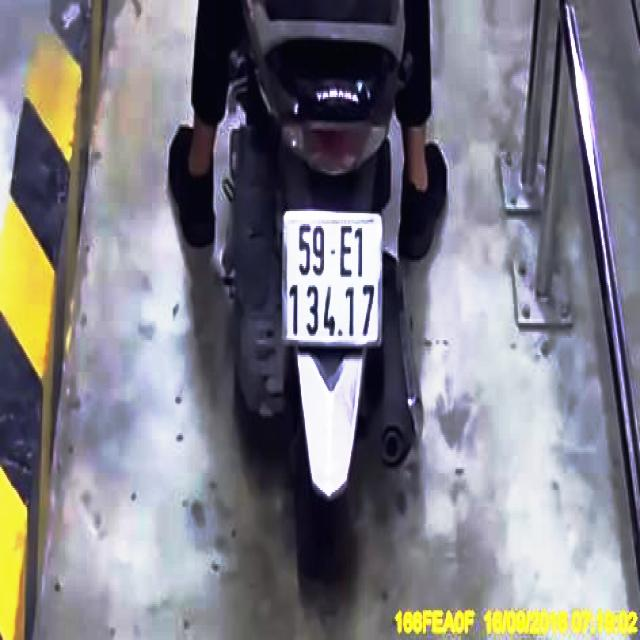license_plate: (285, 214, 383, 346)
